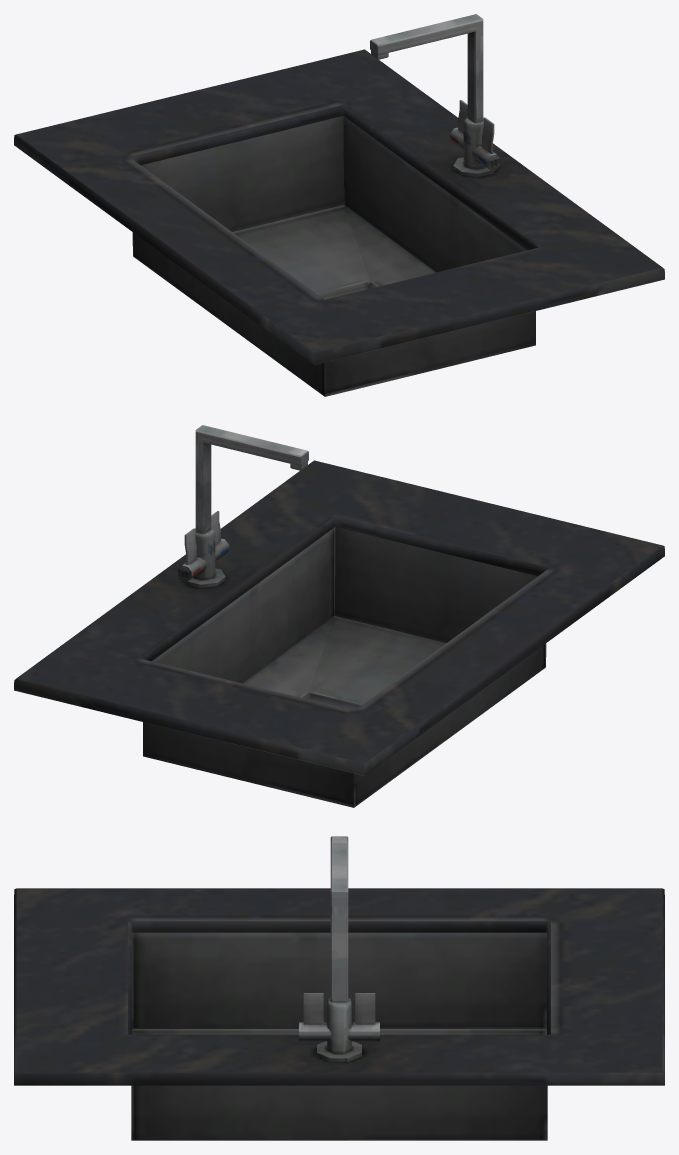
Rendered from p6_modern_kitchen_sink_lod1.glb.
3 views of the same model, one above another, from view 1: azimuth 30°, elevation 25°; view 2: azimuth 150°, elevation 25°; view 3: azimuth 270°, elevation 25° (orthographic). The views are drawn at different scales.
Visible parts, largest first — view 1: surf0; view 2: surf0; view 3: surf0.
Boxes of the visible parts, box(x1,y1,x2,y2) form: surf0: box(14, 14, 664, 396); surf0: box(14, 425, 664, 807); surf0: box(14, 836, 664, 1140).
Bounding box in the file's own units: 26.85 × 19.64 × 39.84.
